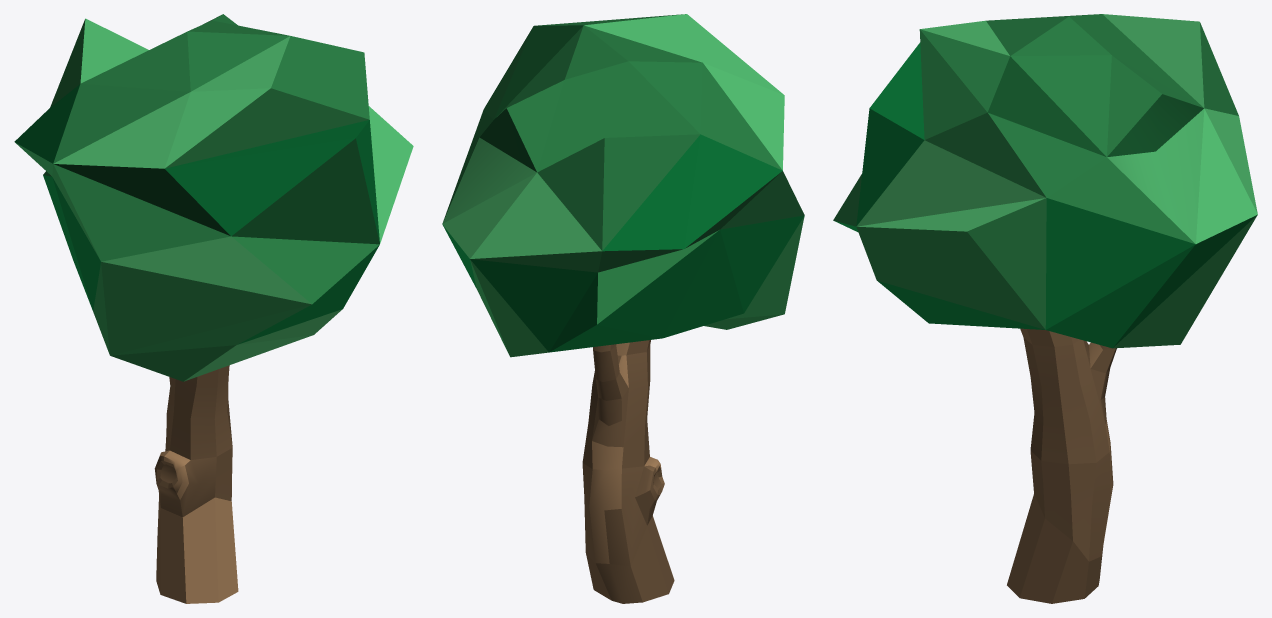
Rendered from tree_try.fbx.
3 renders of one model, left to right at view 1: azimuth 30°, elevation 25°; view 2: azimuth 150°, elevation 25°; view 3: azimuth 270°, elevation 25°, orthographic. The views are drawn at different scales.
Parts seen in each view (by area): view 1: pasted__tree_light; view 2: pasted__tree_light; view 3: pasted__tree_light.
Boxes of the visible parts, x1,y1,x2,y2 form: pasted__tree_light: (14,14,413,603); pasted__tree_light: (442,14,804,603); pasted__tree_light: (833,14,1257,603).
Bounding box in the file's own units: 173 × 280 × 190.
